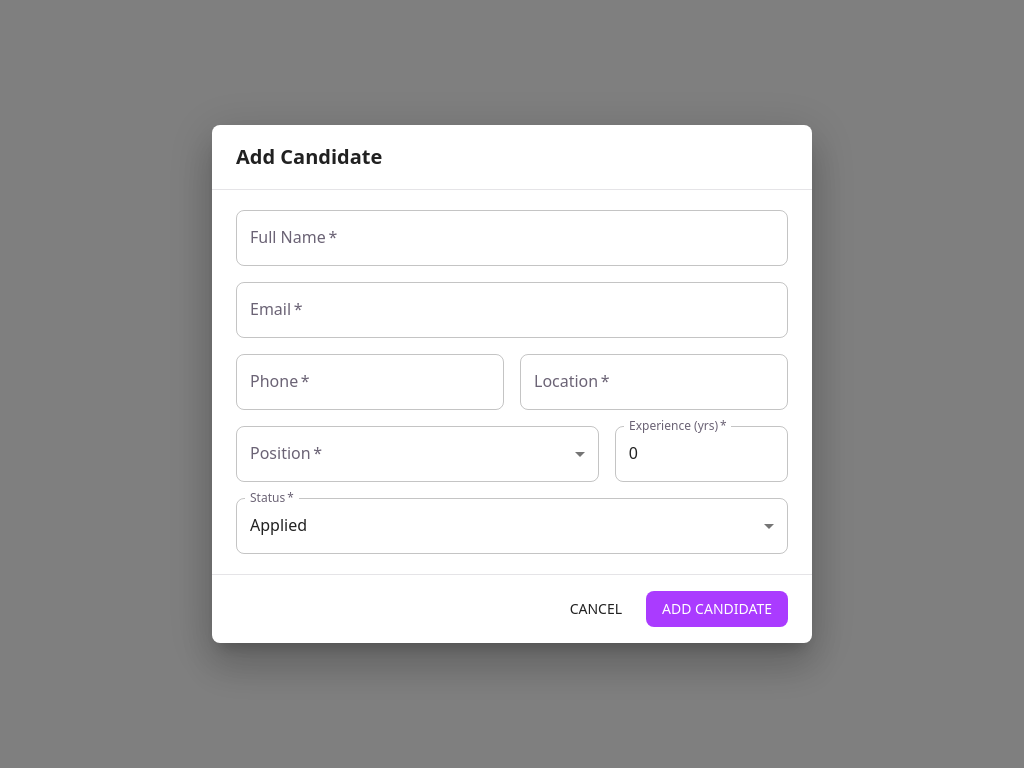
Scenario: AddCandidateDialog › when open › form validation › shows name error when name has fewer than 2 characters
Type "J" into the field labelled "Full Name *" at (512, 238), box [236, 210, 788, 266]
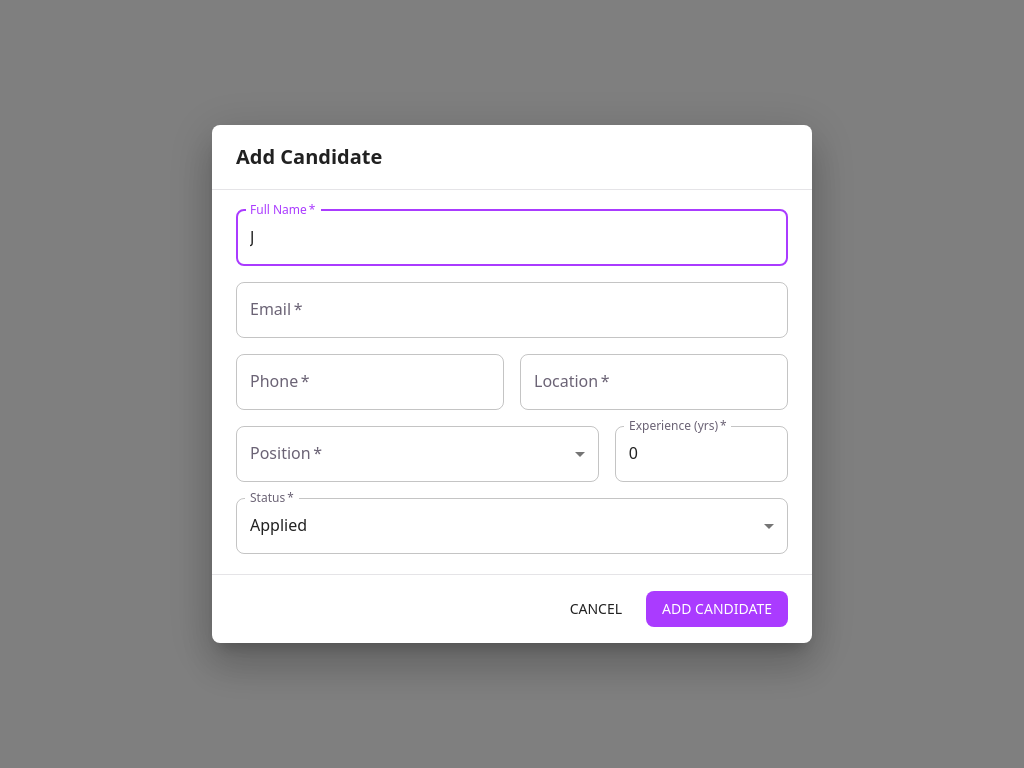
Click the button "Add Candidate" at (717, 609), box [646, 591, 788, 627]
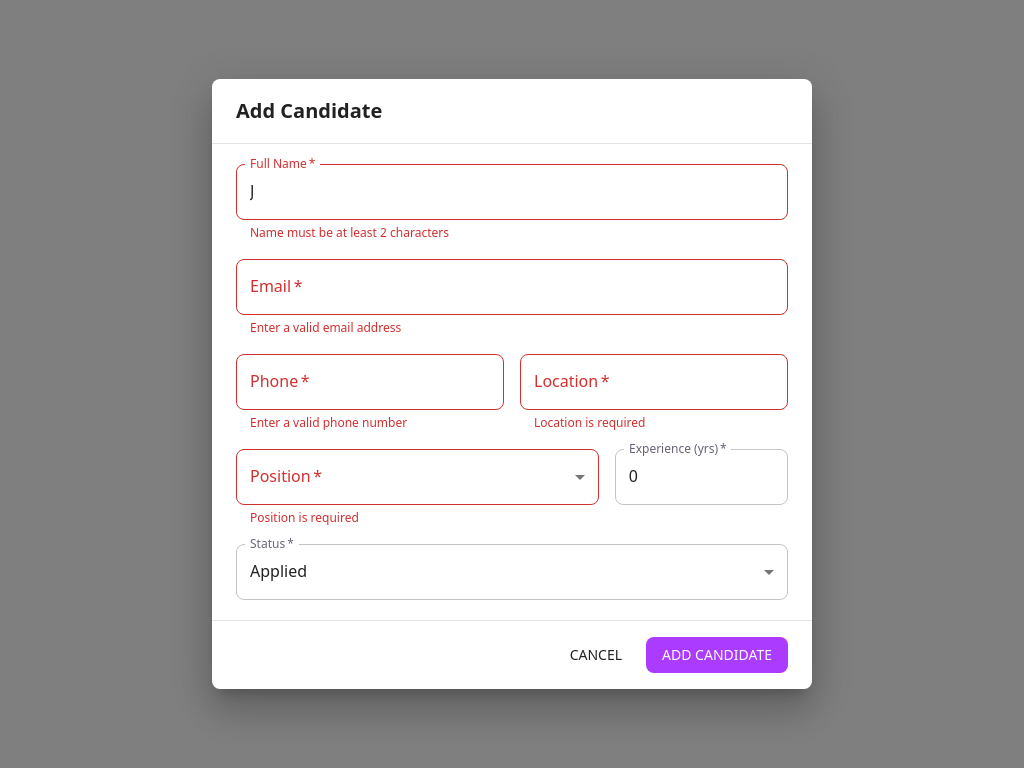
Expected: the text "Name must be at least 2 characters" is shown, [250, 224, 449, 241]
